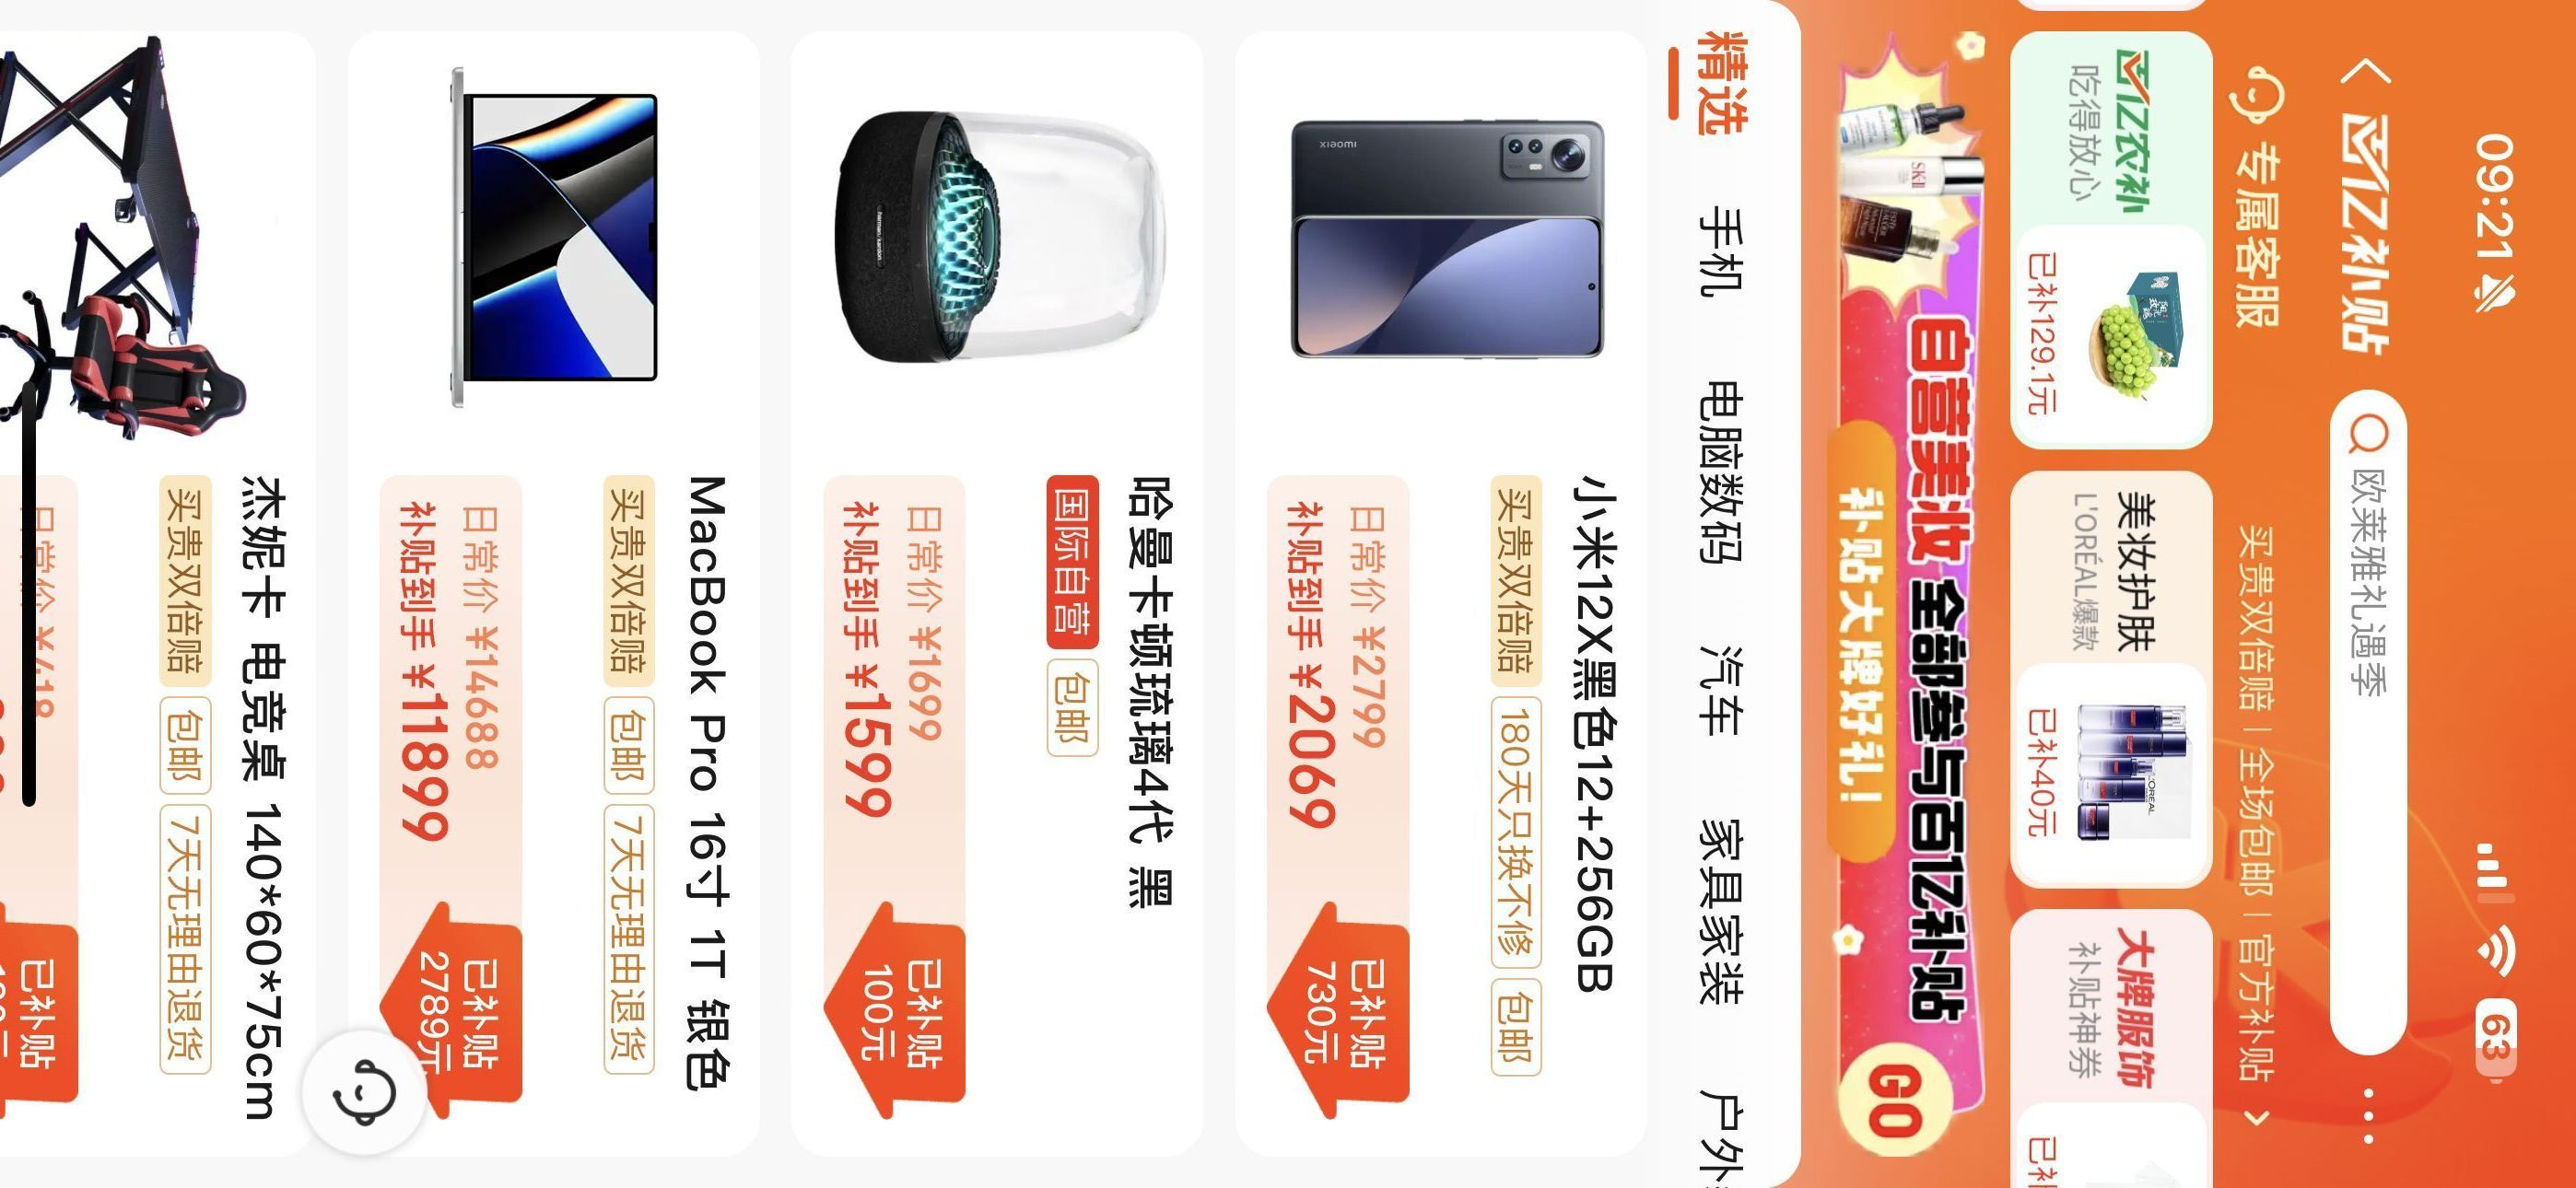item: (1221, 2, 1664, 1178), (775, 5, 1214, 1186), (335, 8, 772, 1188)
op_bar: (2307, 2, 2430, 1186)
seckill: (1822, 5, 2233, 1188)
